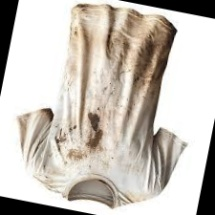earth: (129, 17, 173, 99), (81, 113, 106, 155), (106, 32, 133, 63), (56, 121, 76, 148), (67, 148, 85, 162)
